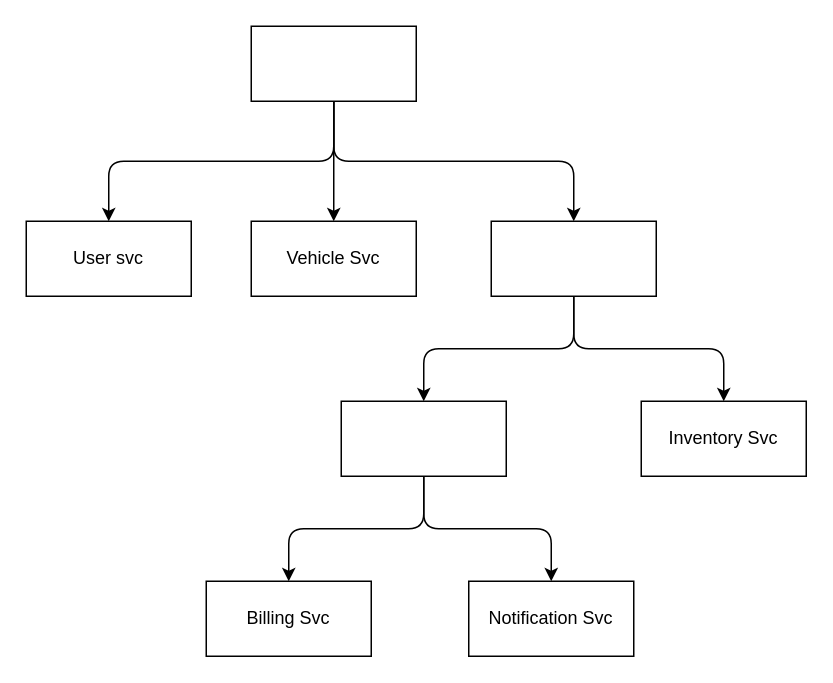
Image size: 833x683. Some labels were removed from this diagram. Each missing label, with the centre of its shape:
API Gateway: the point at 333,63
Appointment Svc: the point at 573,258
Workorder Svc: the point at 423,438
